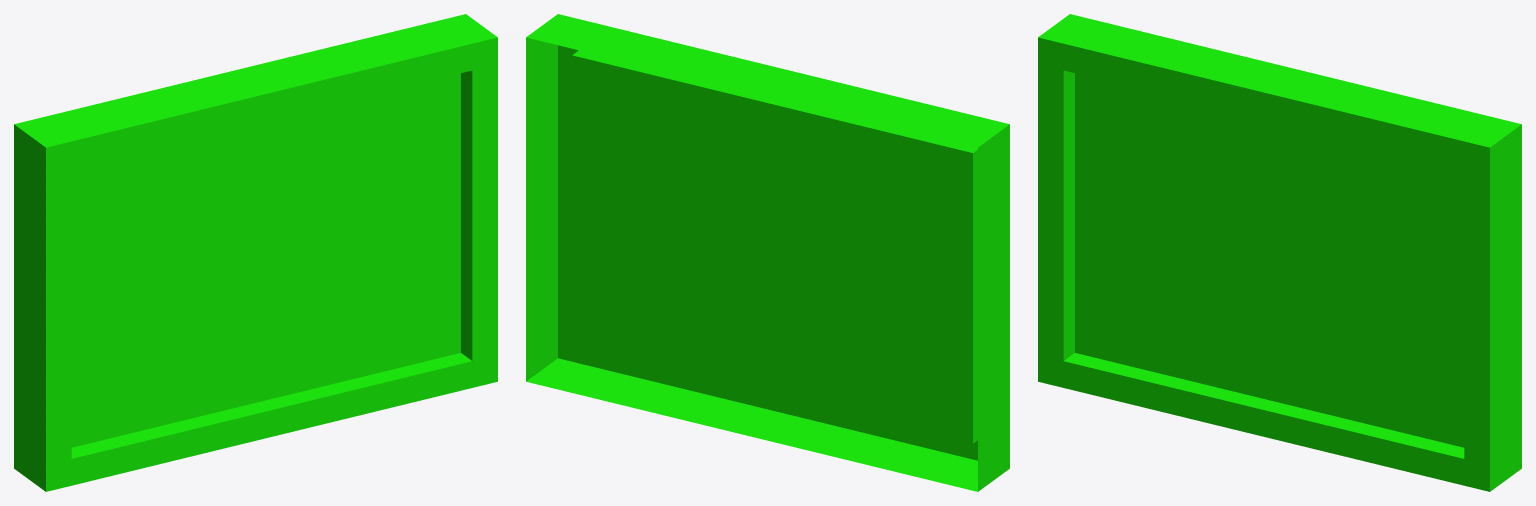
Rendered from Family painting.fbx.
The picture shows the model from 3 angles, left to right: view 1: azimuth 30°, elevation 25°; view 2: azimuth 150°, elevation 25°; view 3: azimuth 330°, elevation 25°; orthographic projection.
Visible parts, largest first — view 1: Family painting; view 2: Family painting; view 3: Family painting.
Part boxes in pixels (x1,y1,x2,y2): Family painting: (14, 14, 497, 491); Family painting: (526, 14, 1009, 491); Family painting: (1038, 14, 1521, 491).
Bounding box in the file's own units: 0.5673 × 0.4129 × 0.0696.
